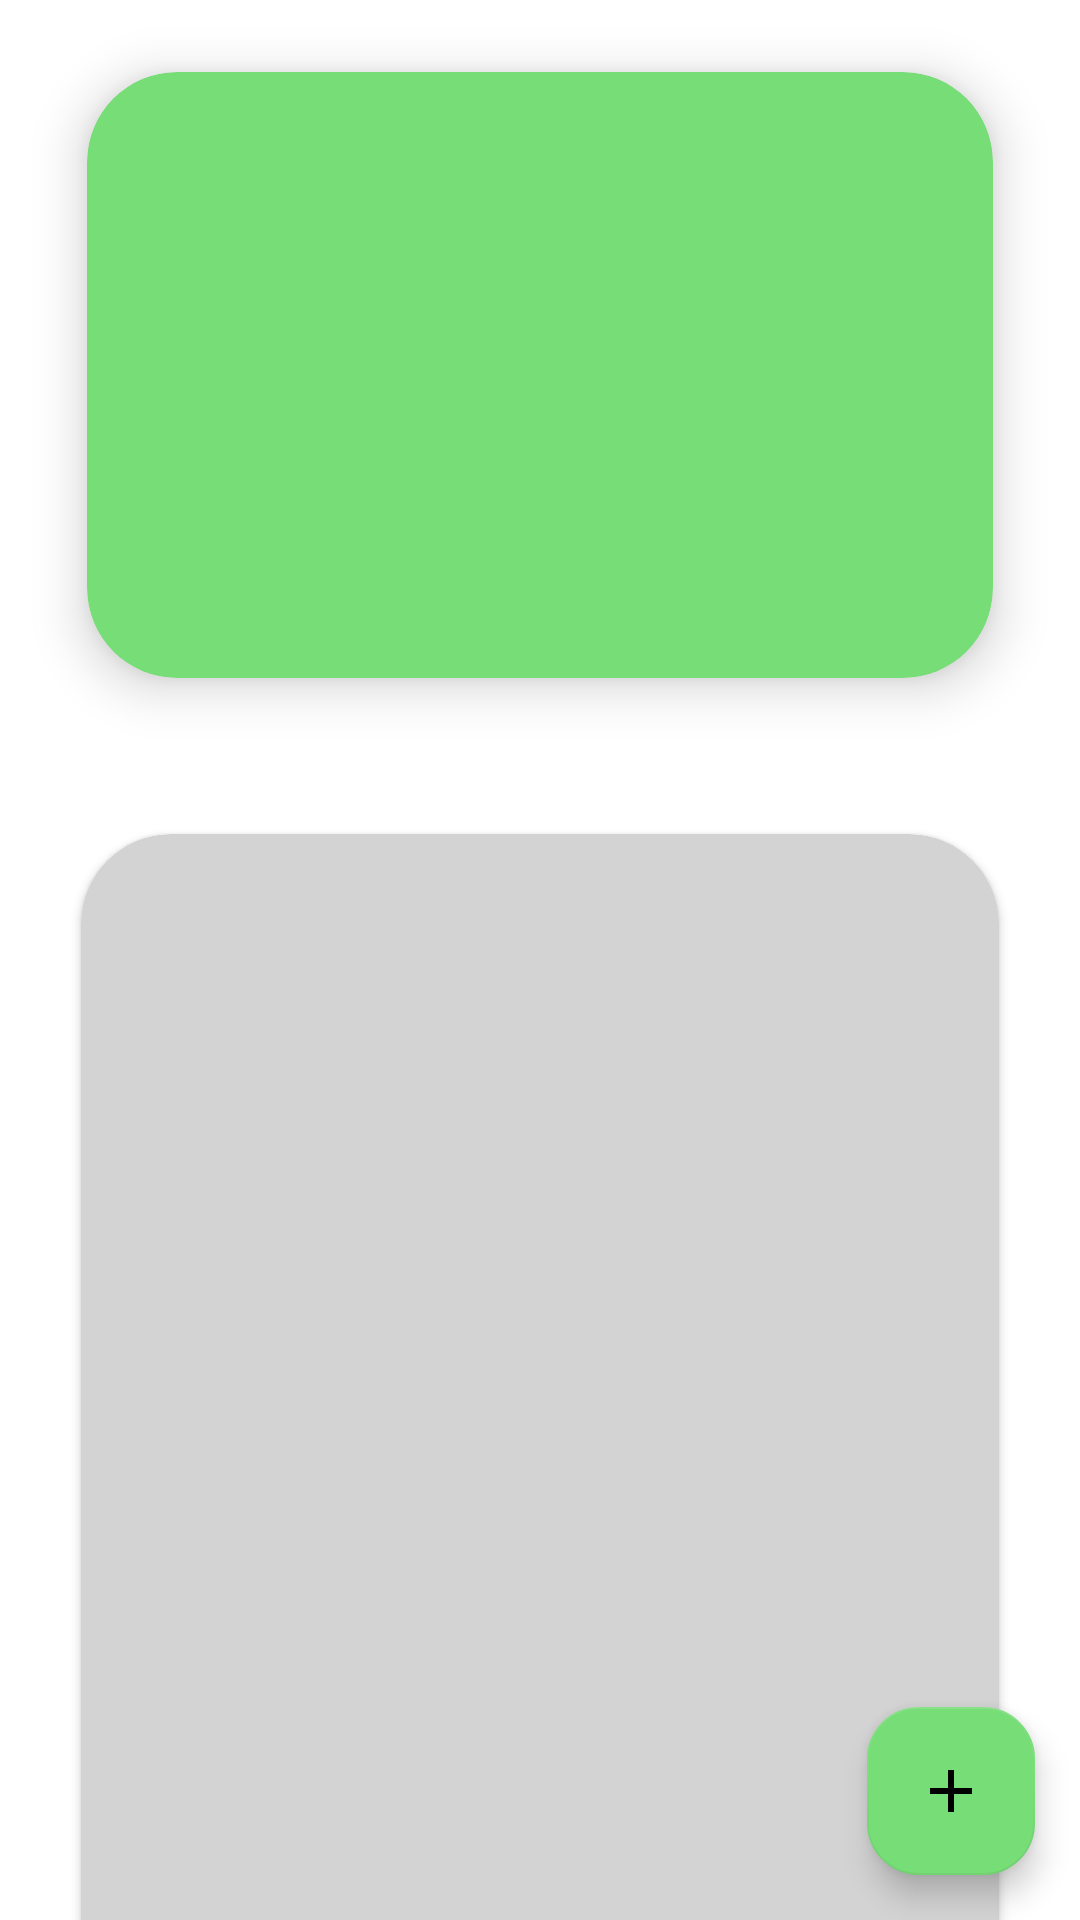

Screen size 1080px×1920px. Icon name, then its center in pixels as point (x, y):
plus: point (951, 1791)
